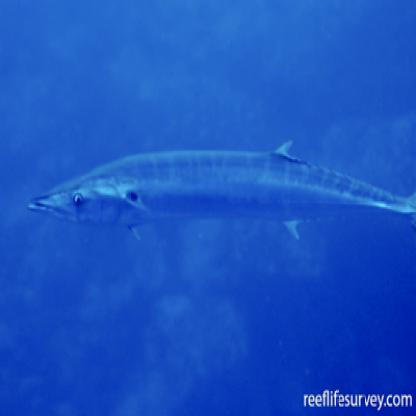Scombridae -Tunas-: (25, 140, 415, 244)
